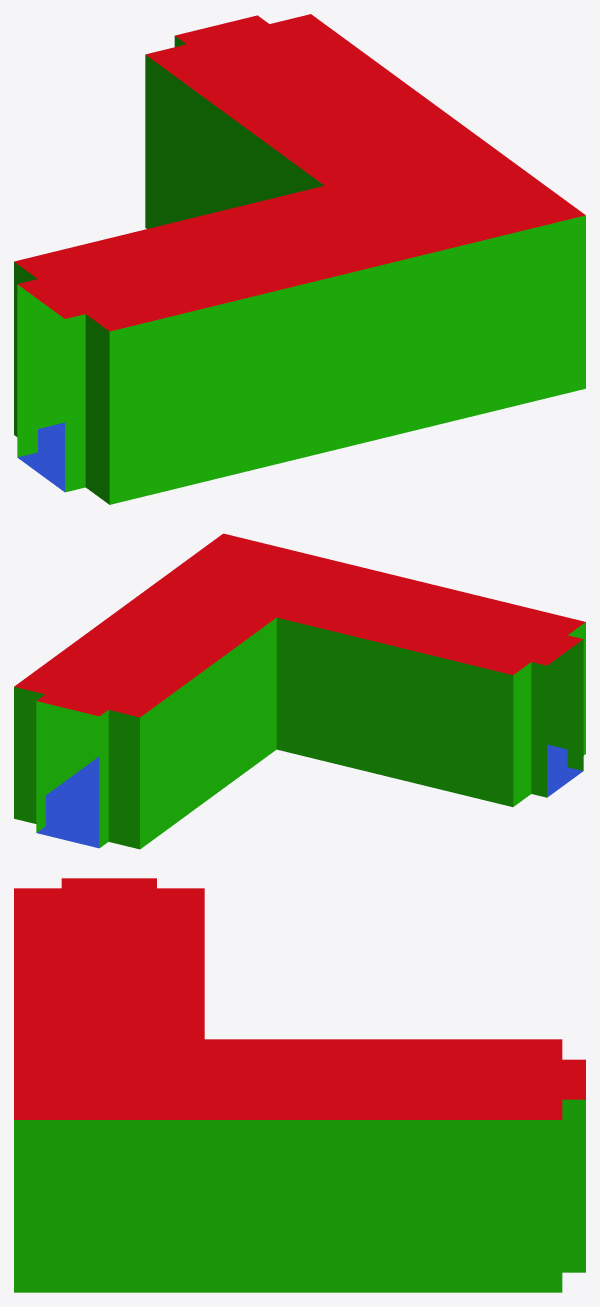
The model's file is Corridor_3U_Right.fbx.
3 renders of one model, top to bottom at view 1: azimuth 30°, elevation 25°; view 2: azimuth 150°, elevation 25°; view 3: azimuth 270°, elevation 25°, orthographic. The views are drawn at different scales.
Parts seen in each view (by area): view 1: Corridor 3U Right; view 2: Corridor 3U Right; view 3: Corridor 3U Right.
Boxes of the visible parts, x1=… form: Corridor 3U Right: x1=14, y1=14, x2=585, y2=504; Corridor 3U Right: x1=14, y1=533, x2=585, y2=849; Corridor 3U Right: x1=14, y1=878, x2=585, y2=1292.
Bounding box in the file's own units: 2400 × 800 × 2400.
